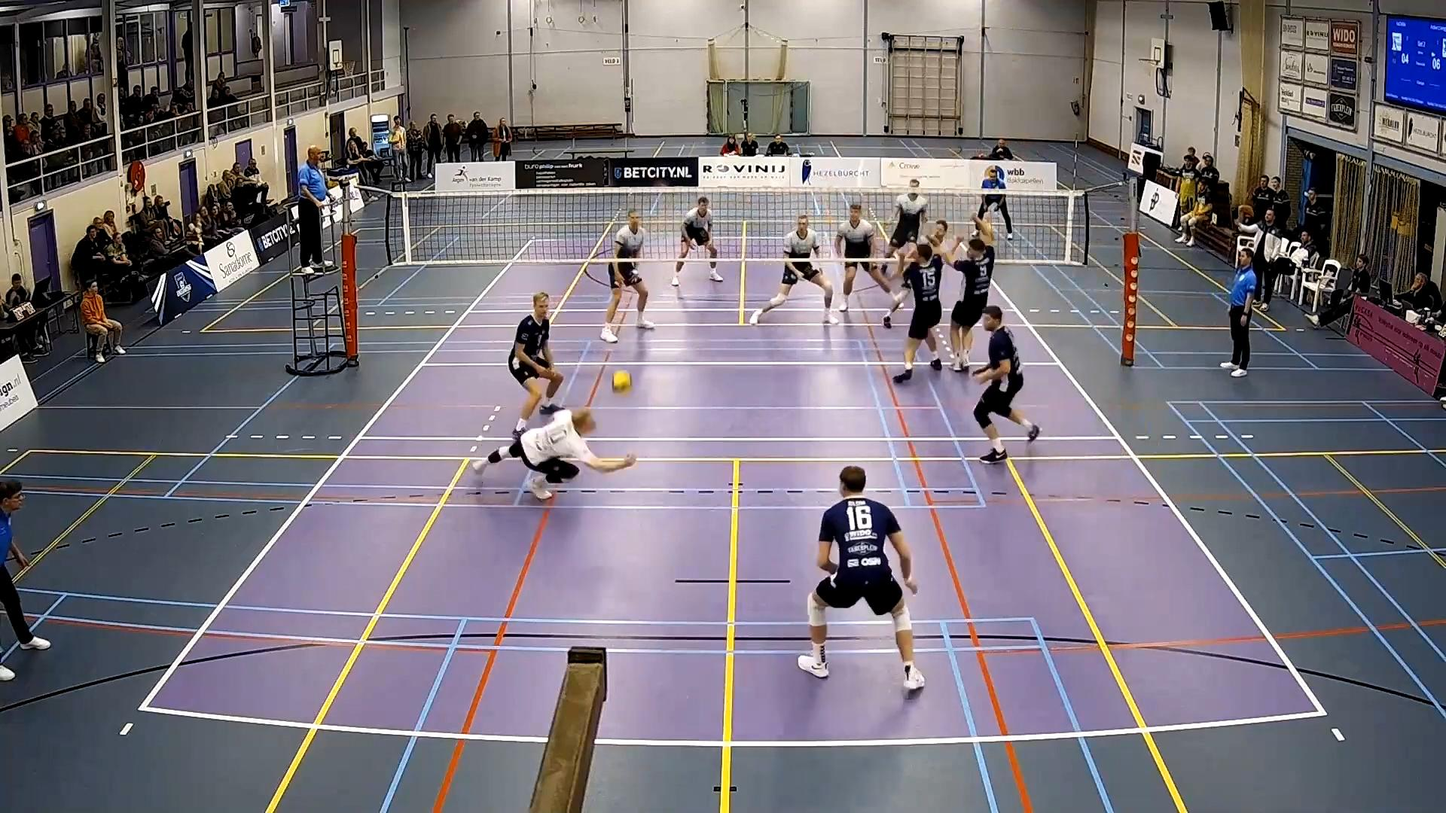difesa: (506, 397, 645, 508)
